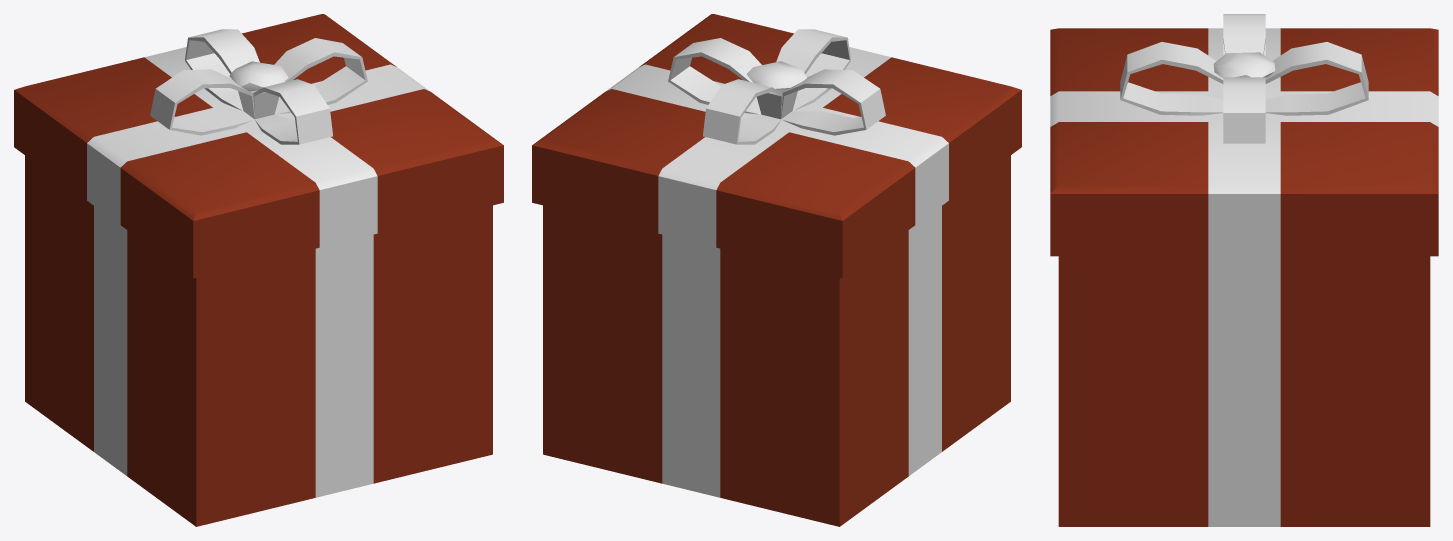
Rendered from GiftBox_02.glb.
The picture shows the model from 3 angles, left to right: view 1: azimuth 30°, elevation 25°; view 2: azimuth 150°, elevation 25°; view 3: azimuth 270°, elevation 25°; orthographic projection. The views are drawn at different scales.
Visible parts, largest first — view 1: GiftBox_02; view 2: GiftBox_02; view 3: GiftBox_02.
Part boxes in pixels (<box>): GiftBox_02: <box>14,14,503,526</box>; GiftBox_02: <box>532,14,1021,526</box>; GiftBox_02: <box>1050,14,1438,526</box>.
Bounding box in the file's own units: 0.4996 × 0.5642 × 0.4996.
Materials: 1 (1 with a texture image).
